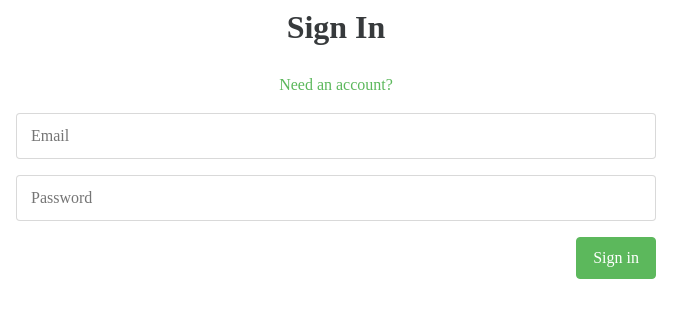
Test: Login form › [unit] shows the error when credentials are rejected
Type "wrong@example.com" into the field with placeholder "Email" at (336, 136), box [16,113,656,159]
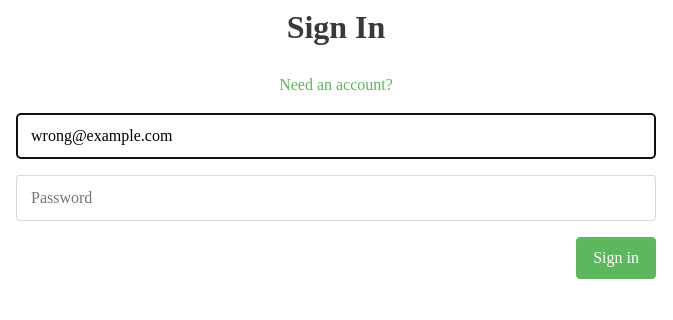
Type "wrongpassword" into the password field with placeholder "Password" at (336, 198), box [16,175,656,221]
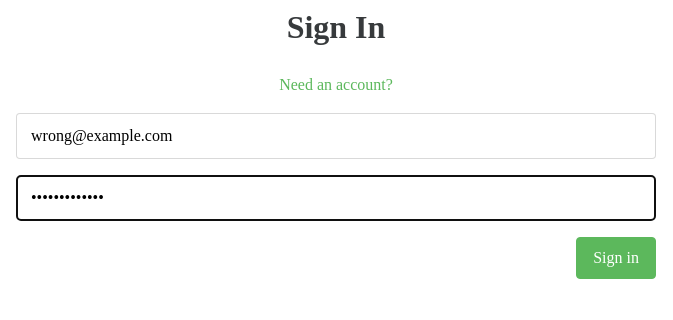
Click the button "Sign in" at (616, 258), box [576,237,656,279]
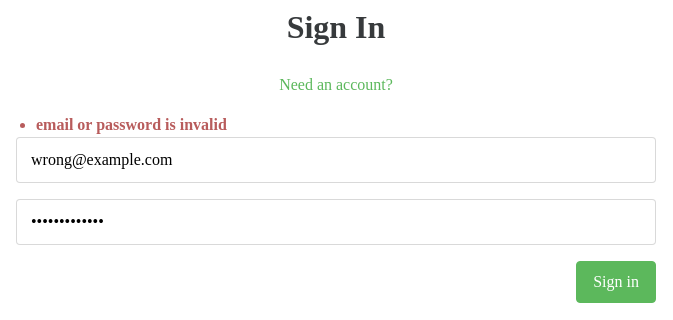
Result: the list item "email or password is invalid" is shown at [36,116,227,133]
